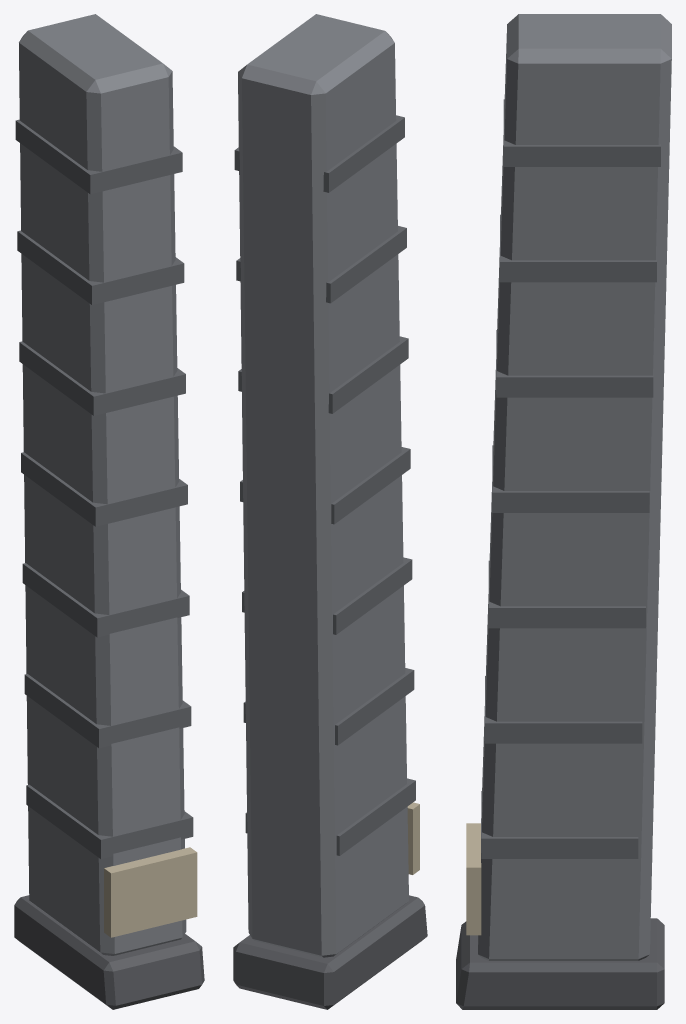
The model's file is att_ext_mag_stick.fbx.
3 renders of one model, left to right at view 1: azimuth 30°, elevation 25°; view 2: azimuth 150°, elevation 25°; view 3: azimuth 270°, elevation 25°, orthographic. The views are drawn at different scales.
Parts seen in each view (by area): view 1: att_ext_mag_stick; view 2: att_ext_mag_stick; view 3: att_ext_mag_stick.
Boxes of the visible parts, x1,y1,x2,y2 form: att_ext_mag_stick: [14, 14, 204, 1009]; att_ext_mag_stick: [233, 14, 427, 1009]; att_ext_mag_stick: [456, 14, 671, 1009].
Size of the model in its own units: 0.032 by 0.282 by 0.0577.
